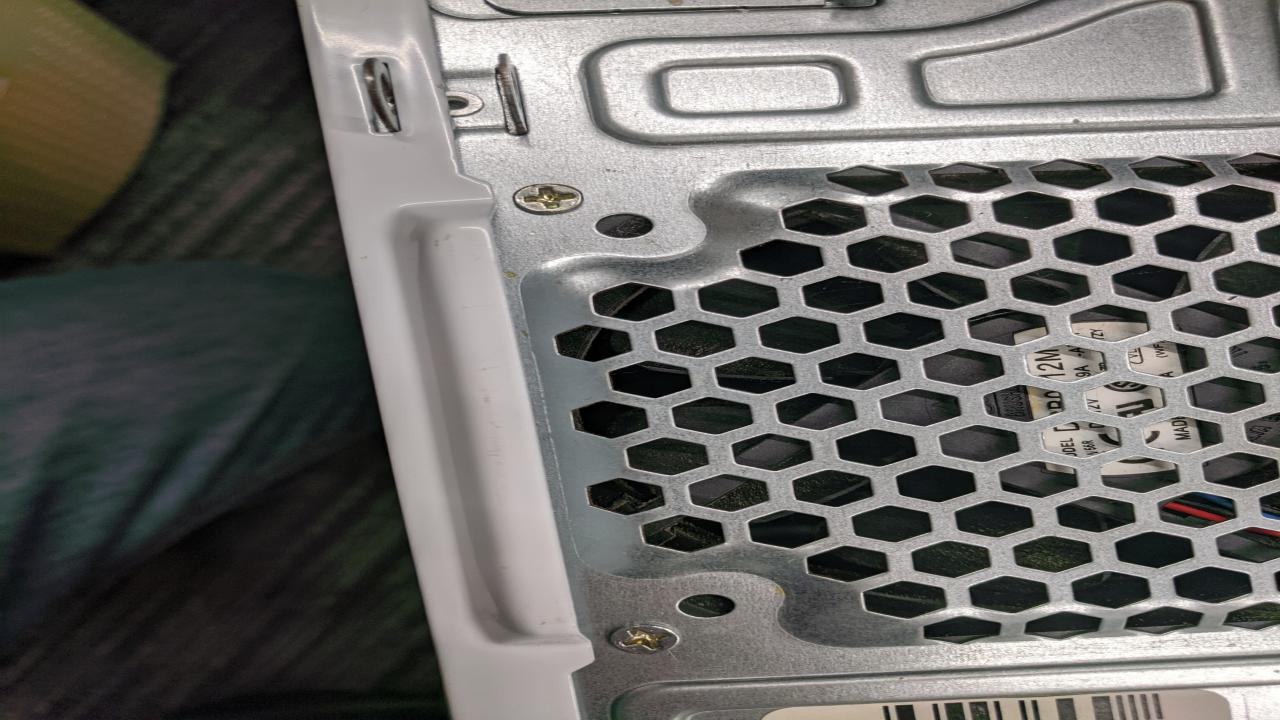CRS: (504, 183, 586, 216), (604, 624, 683, 654)
